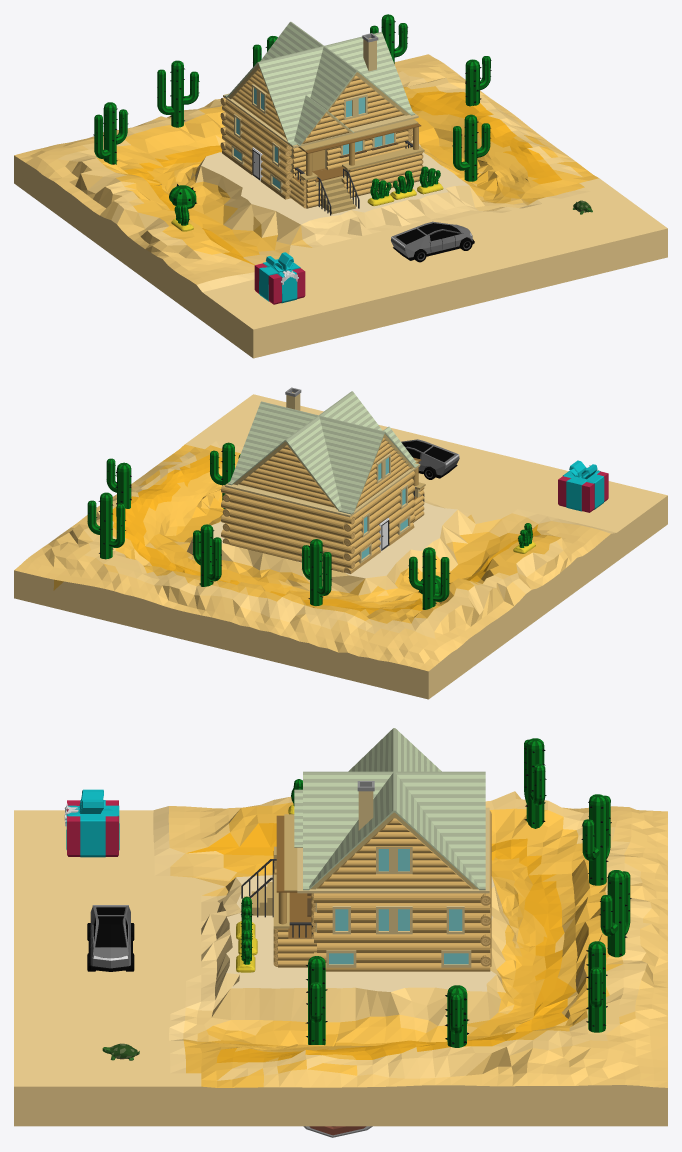
3 renders of one model, top to bottom at view 1: azimuth 30°, elevation 25°; view 2: azimuth 150°, elevation 25°; view 3: azimuth 270°, elevation 25°, orthographic. The views are drawn at different scales.
Visible parts, largest first — view 1: Cube.001, Cube.1516, VEHICLES_CYBERTRUCK, OBJRANDOM_GIANT_PRESENT, Cylinder.037, Cylinder.044, Cylinder.045, Cylinder.038, Cylinder.042, Cylinder.039, Cylinder.041, Sphere.023; view 2: Cube.001, Cube.1516, OBJRANDOM_GIANT_PRESENT, Cylinder.042, Cylinder.045, Cylinder.044, Cylinder.043, VEHICLES_CYBERTRUCK, Cylinder.038, Cylinder.037; view 3: Cube.001, Cube.1516, OBJRANDOM_GIANT_PRESENT, VEHICLES_CYBERTRUCK, Cylinder.043, Cylinder.044, Cylinder.045, Cylinder.042, Cylinder.037, Cylinder.038, Cylinder.041.
Boxes of the visible parts, x1=… form: Cube.001: x1=14, y1=54, x2=667, y2=358; Cube.1516: x1=220, y1=21, x2=424, y2=215; VEHICLES_CYBERTRUCK: x1=391, y1=221, x2=474, y2=262; OBJRANDOM_GIANT_PRESENT: x1=254, y1=252, x2=305, y2=304; Cylinder.037: x1=452, y1=114, x2=490, y2=181; Cylinder.044: x1=157, y1=60, x2=199, y2=127; Cylinder.045: x1=93, y1=102, x2=128, y2=164; Cylinder.038: x1=465, y1=56, x2=491, y2=106; Cylinder.042: x1=370, y1=14, x2=407, y2=63; Cylinder.039: x1=367, y1=178, x2=394, y2=205; Cylinder.041: x1=417, y1=166, x2=443, y2=194; Sphere.023: x1=169, y1=184, x2=196, y2=208; Cube.001: x1=14, y1=394, x2=667, y2=699; Cube.1516: x1=221, y1=387, x2=425, y2=573; OBJRANDOM_GIANT_PRESENT: x1=558, y1=460, x2=608, y2=512; Cylinder.042: x1=87, y1=492, x2=125, y2=559; Cylinder.045: x1=408, y1=547, x2=450, y2=609; Cylinder.044: x1=302, y1=539, x2=331, y2=605; Cylinder.043: x1=192, y1=524, x2=221, y2=586; VEHICLES_CYBERTRUCK: x1=401, y1=439, x2=459, y2=479; Cylinder.038: x1=106, y1=458, x2=131, y2=508; Cylinder.037: x1=210, y1=442, x2=240, y2=508; Cube.001: x1=14, y1=791, x2=667, y2=1126; Cube.1516: x1=241, y1=728, x2=491, y2=971; OBJRANDOM_GIANT_PRESENT: x1=64, y1=789, x2=119, y2=857; VEHICLES_CYBERTRUCK: x1=87, y1=905, x2=134, y2=971; Cylinder.043: x1=599, y1=870, x2=631, y2=957; Cylinder.044: x1=581, y1=794, x2=611, y2=885; Cylinder.045: x1=524, y1=738, x2=546, y2=828; Cylinder.042: x1=586, y1=941, x2=607, y2=1032; Cylinder.037: x1=305, y1=956, x2=327, y2=1045; Cylinder.038: x1=445, y1=985, x2=468, y2=1047; Cylinder.041: x1=236, y1=929, x2=255, y2=972.
Size of the model in its own units: 4002 by 2343 by 4001.
Materials: 39 (3 with a texture image).
